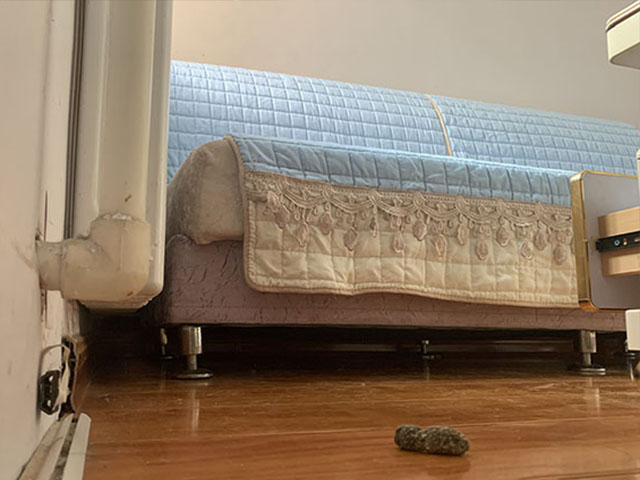feces: (392, 423, 471, 457)
sofa: (166, 56, 577, 380)
